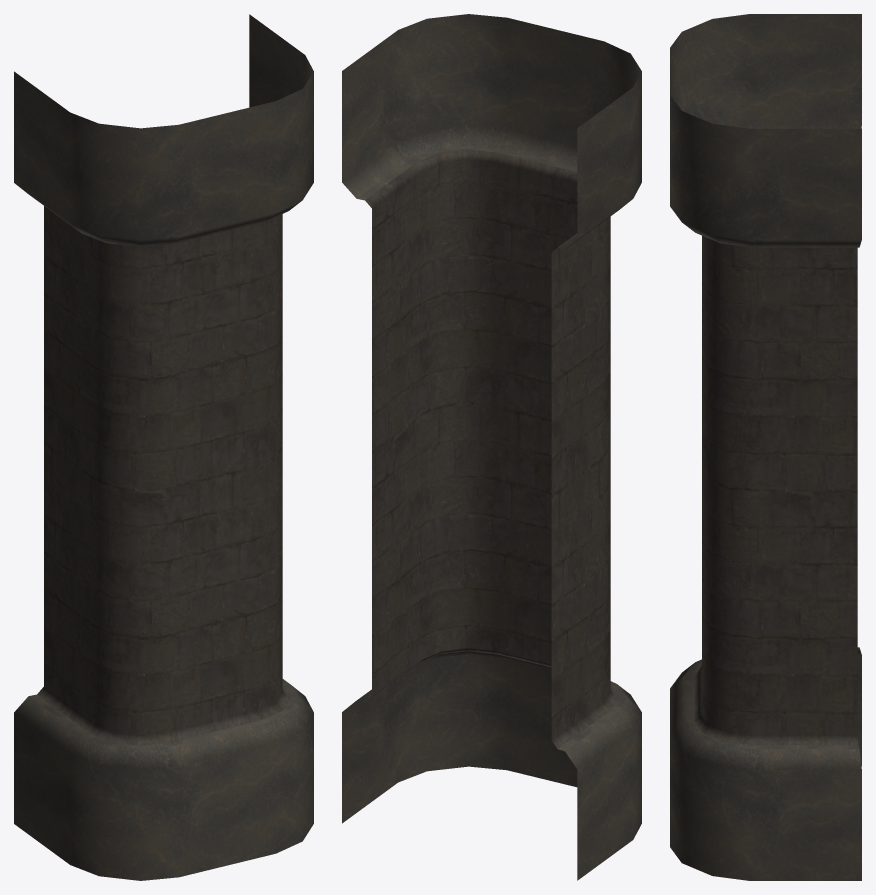
File: SM_Pillar.fbx
3 renders of one model, left to right at view 1: azimuth 30°, elevation 25°; view 2: azimuth 150°, elevation 25°; view 3: azimuth 270°, elevation 25°, orthographic.
Visible parts, largest first — view 1: pCube1; view 2: pCube1; view 3: pCube1.
Part boxes in pixels (x1,y1,x2,y2): pCube1: (14, 14, 313, 880); pCube1: (342, 14, 641, 880); pCube1: (670, 14, 861, 880).
Bounding box in the file's own units: 196 × 600 × 139.
